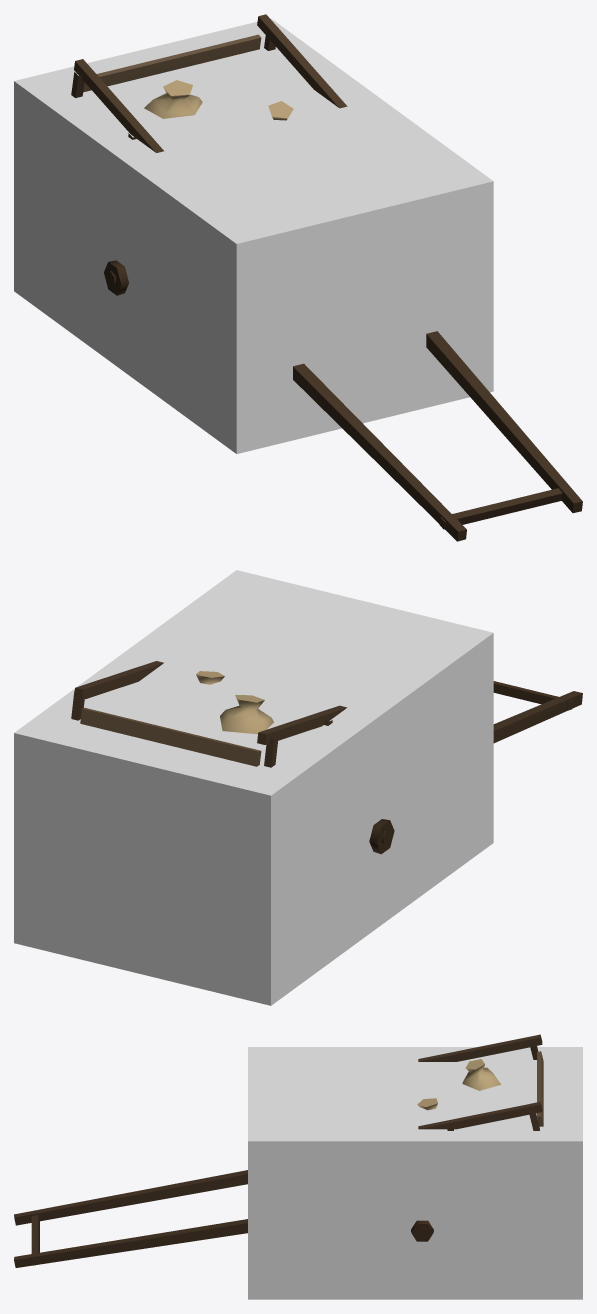
Rendered from cart.glb.
3 views of the same model, one above another, from view 1: azimuth 30°, elevation 25°; view 2: azimuth 150°, elevation 25°; view 3: azimuth 270°, elevation 25° (orthographic). The views are drawn at different scales.
Parts seen in each view (by area): view 1: COL_cart, cart; view 2: COL_cart, cart; view 3: COL_cart, cart.
Part boxes in pixels (box(x1,y1,x2,y2)): COL_cart: box(14, 18, 493, 453); cart: box(71, 14, 582, 541); COL_cart: box(14, 570, 493, 1005); cart: box(71, 661, 582, 854); COL_cart: box(248, 1047, 582, 1299); cart: box(14, 1034, 543, 1267).
Size of the model in its own units: 1.72 by 1.44 by 4.08.
